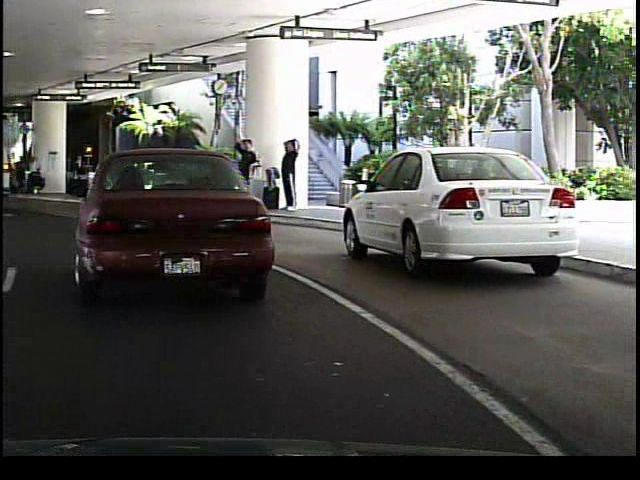person: (231, 132, 257, 212), (277, 133, 300, 212), (288, 147, 310, 210), (125, 156, 140, 195)
